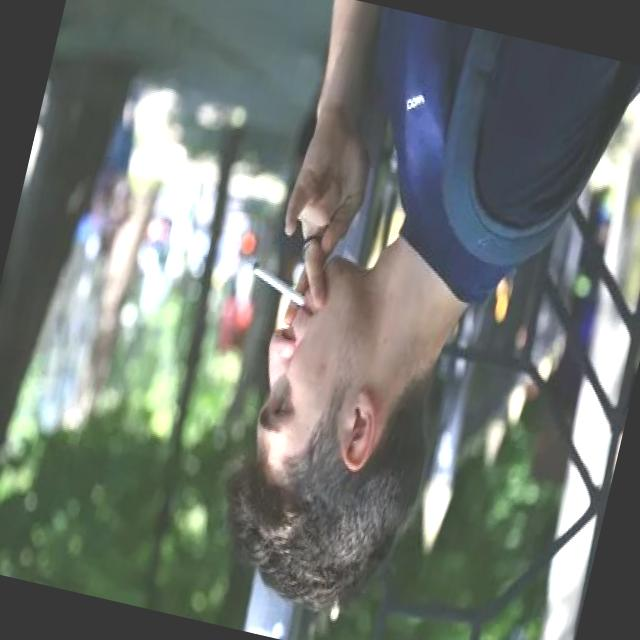cigarette: (244, 261, 320, 314)
